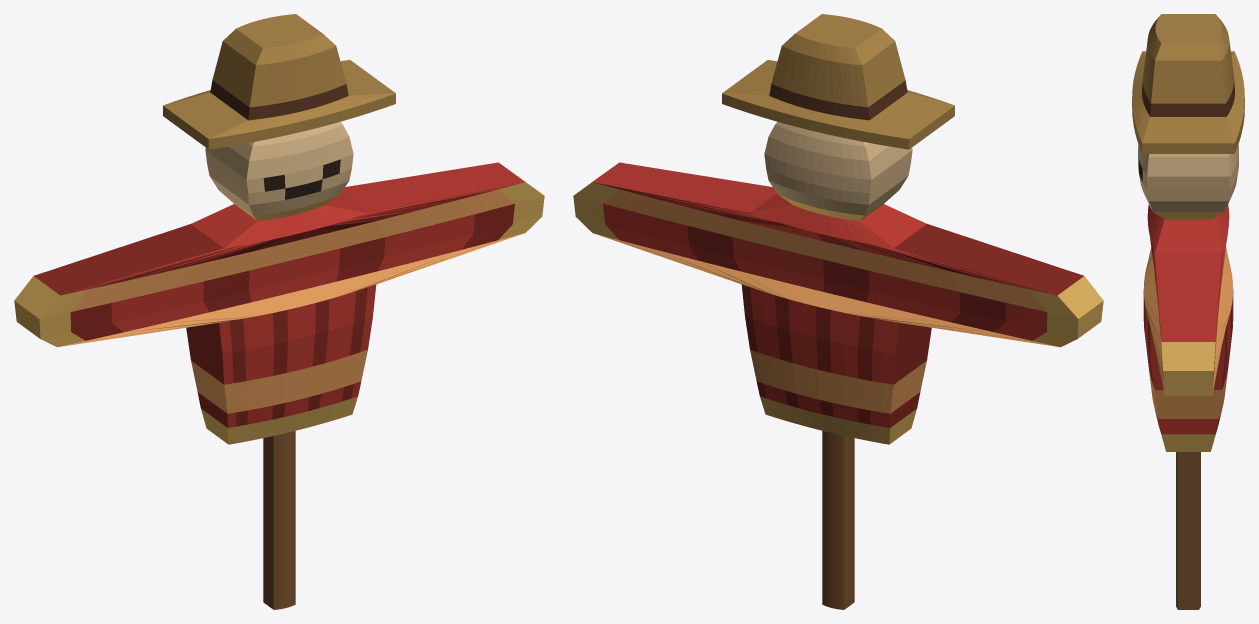
The model's file is NEW_RECOVERY_020_LOD0.glb.
3 views of the same model, side by side, from view 1: azimuth 30°, elevation 25°; view 2: azimuth 150°, elevation 25°; view 3: azimuth 270°, elevation 25° (orthographic).
Parts seen in each view (by area): view 1: Scarecrow; view 2: Scarecrow; view 3: Scarecrow.
Boxes of the visible parts, <box> form: Scarecrow: <box>14,14,544,609</box>; Scarecrow: <box>573,14,1103,609</box>; Scarecrow: <box>1132,14,1244,609</box>.
Bounding box in the file's own units: 3.02 × 3.27 × 0.5801.
